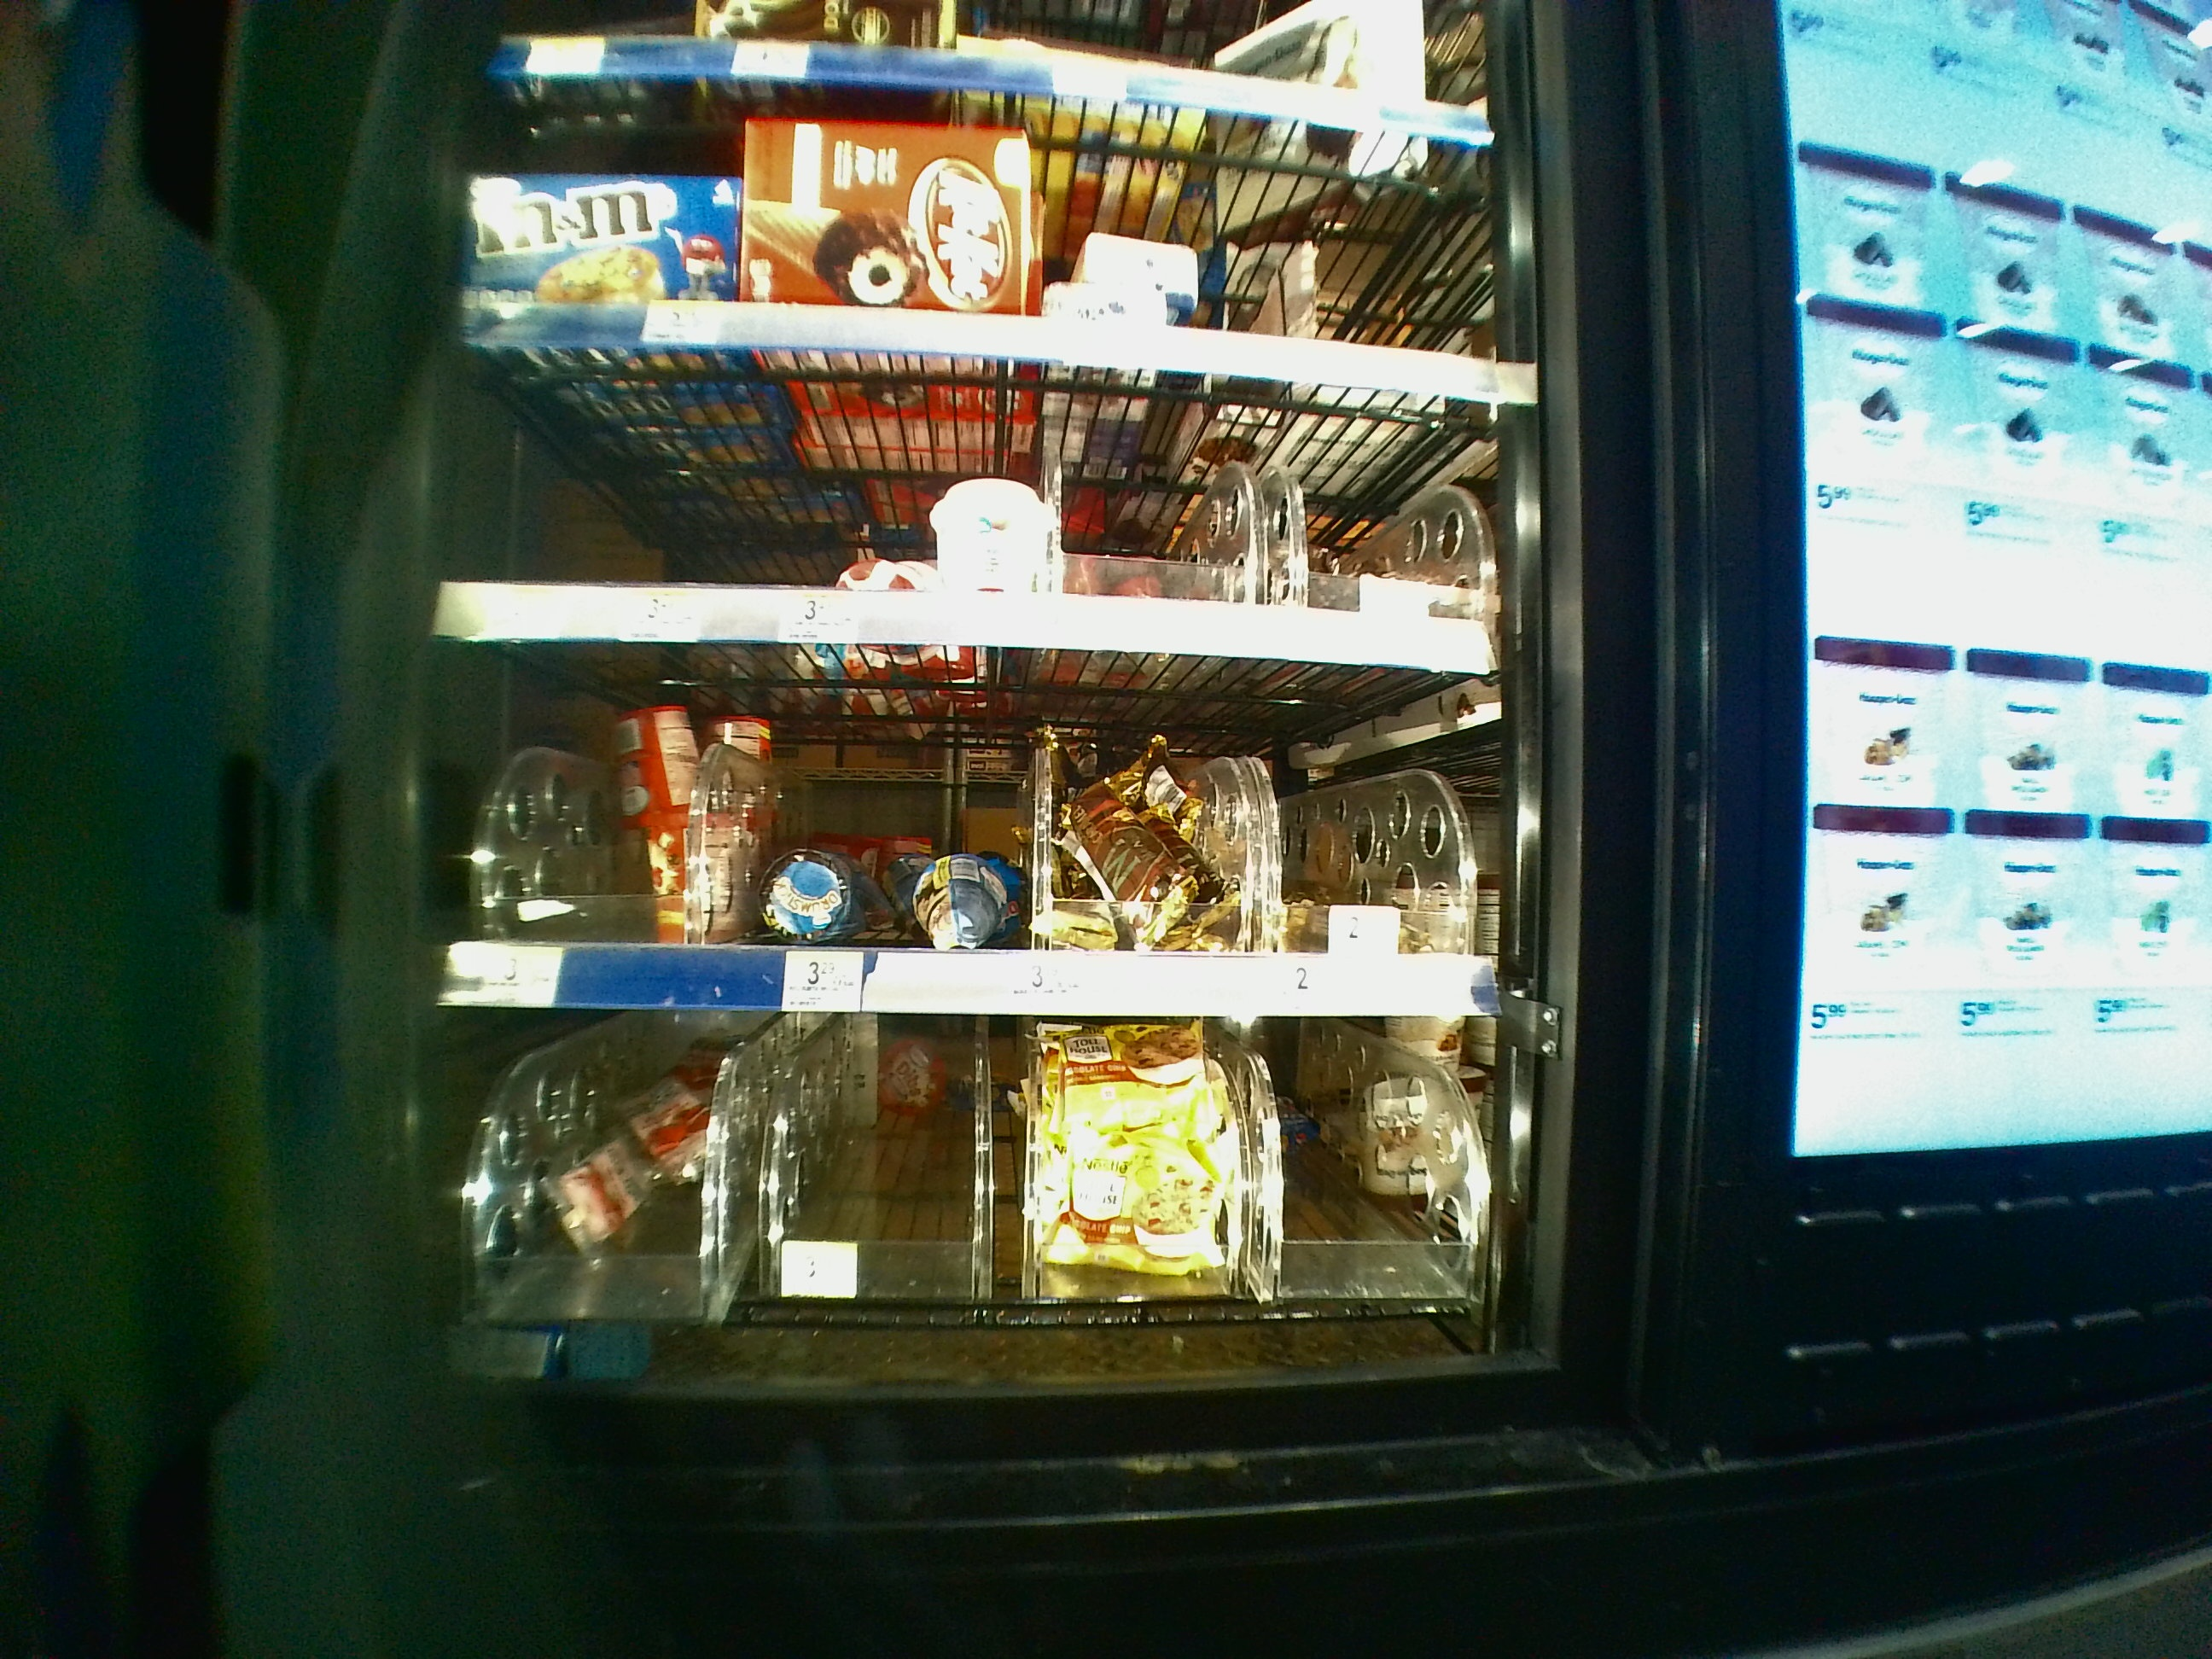shelf: (446, 1035, 1521, 1384), (441, 676, 1510, 1012), (446, 376, 1519, 657), (460, 77, 1514, 347)
